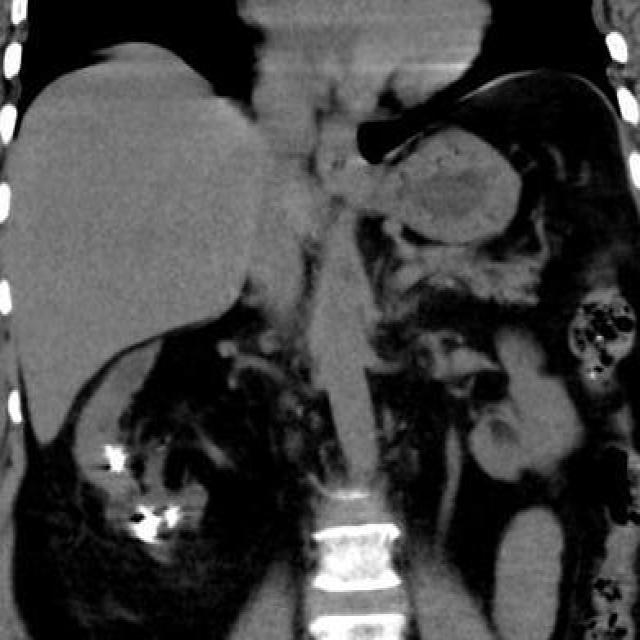Tas_Var: (132, 504, 163, 550), (106, 447, 126, 475), (164, 504, 180, 532), (104, 444, 112, 452)
